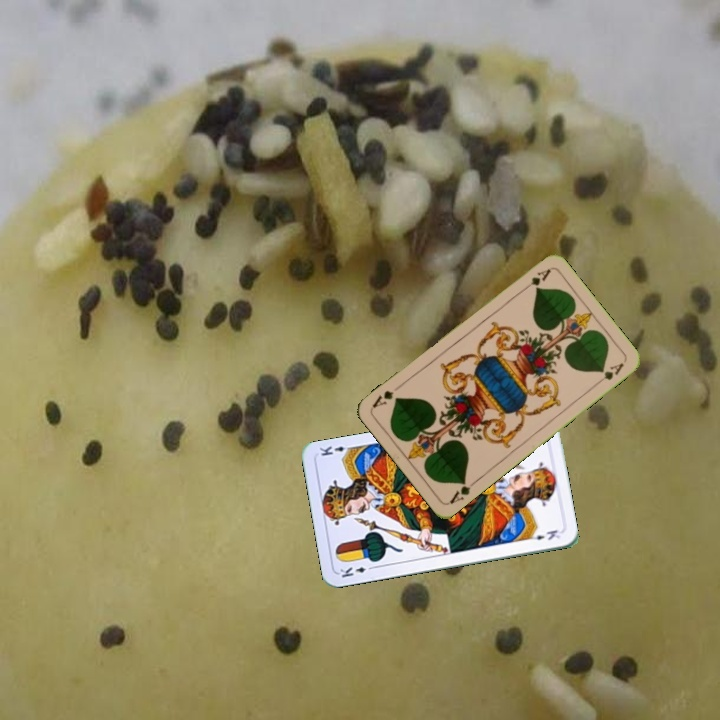EK: (336, 562, 377, 580)
GA: (445, 476, 480, 507), (518, 265, 553, 294)
